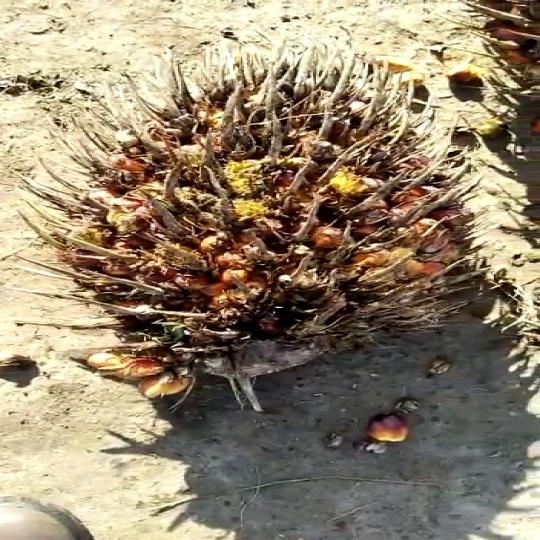terlalu masak: (1, 33, 515, 405)
